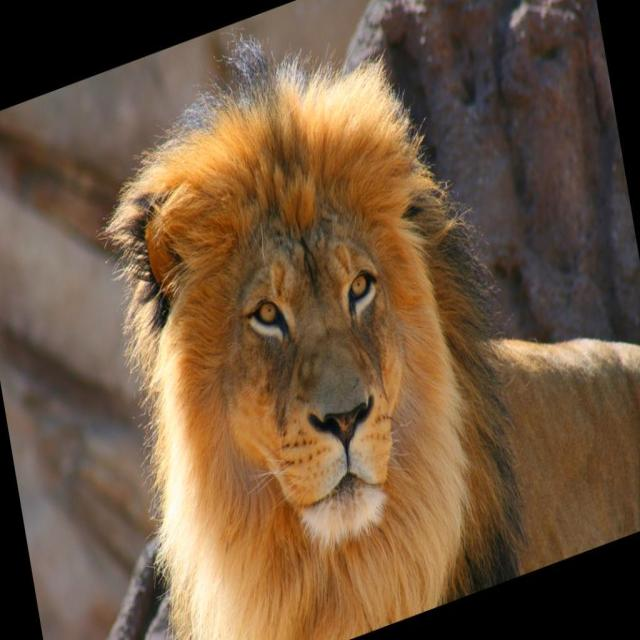Lion: (70, 0, 640, 639)
